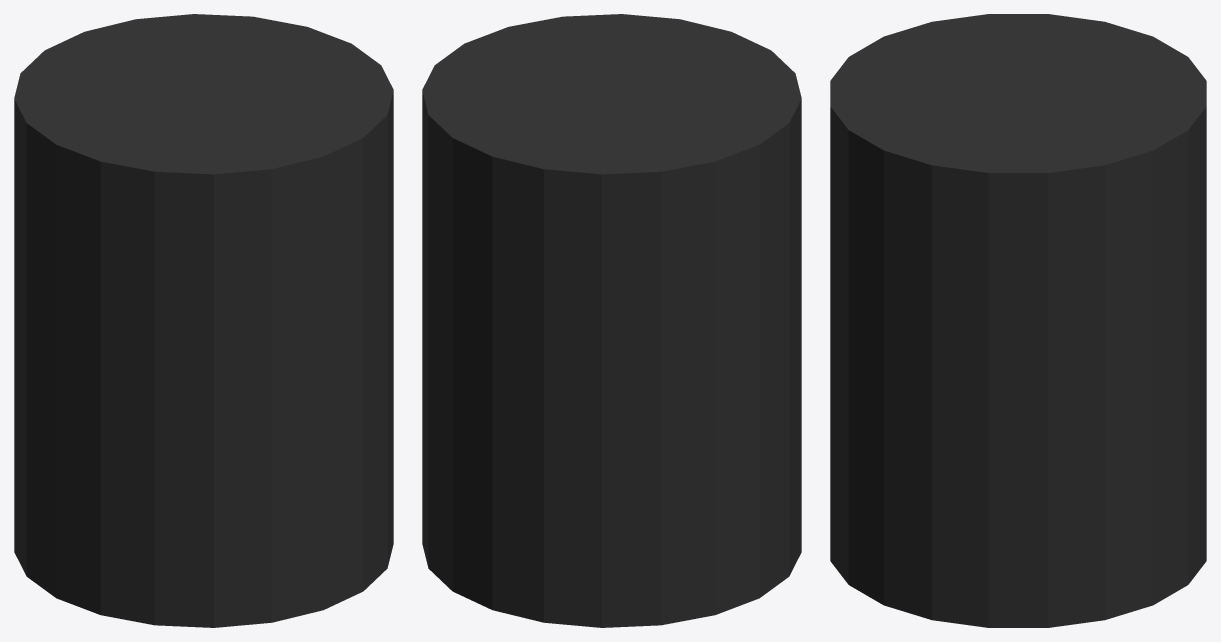
The model's file is dc_metro_roof_o_pillar.obj.
3 renders of one model, left to right at view 1: azimuth 30°, elevation 25°; view 2: azimuth 150°, elevation 25°; view 3: azimuth 270°, elevation 25°, orthographic.
Visible parts, largest first — view 1: cylinder; view 2: cylinder; view 3: cylinder.
Boxes of the visible parts, x1=… form: cylinder: x1=14, y1=14, x2=393, y2=627; cylinder: x1=422, y1=14, x2=801, y2=627; cylinder: x1=830, y1=14, x2=1206, y2=627.
Size of the model in its own units: 0.75 by 1 by 0.75.
Materials: 1 (1 with a texture image).
